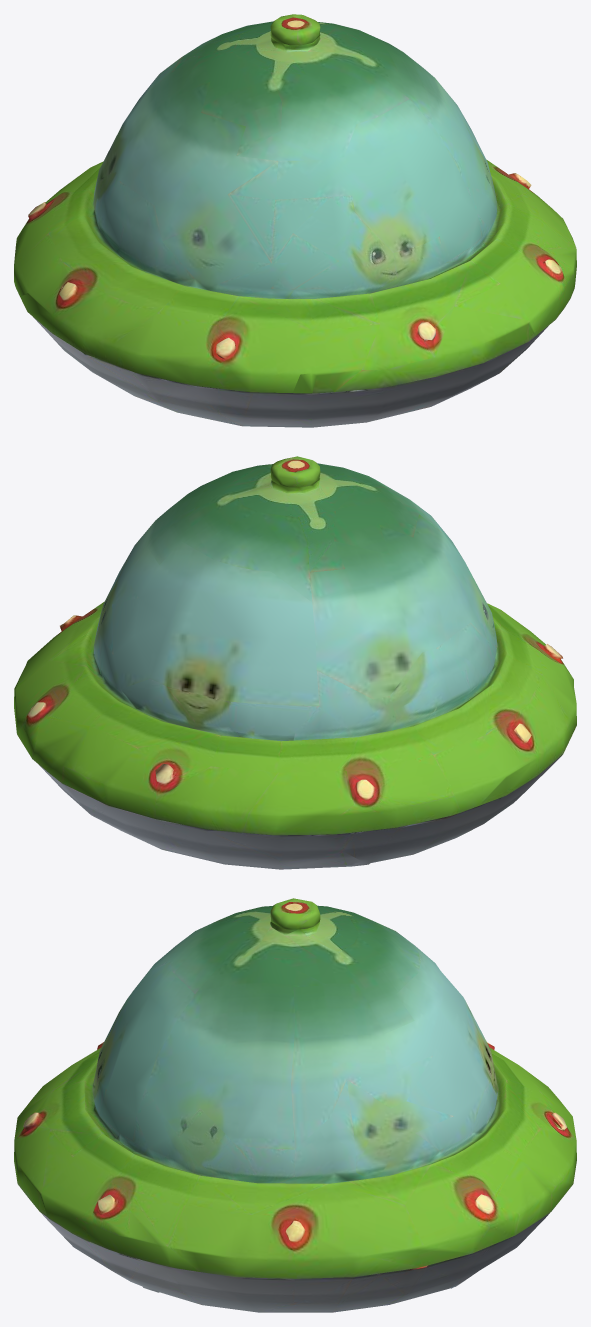
Rendered from alien-a.glb.
3 views of the same model, one above another, from view 1: azimuth 30°, elevation 25°; view 2: azimuth 150°, elevation 25°; view 3: azimuth 270°, elevation 25° (orthographic).
Bounding box in the file's own units: 1.89 × 1.31 × 1.89.
Materials: 1 (1 with a texture image).
